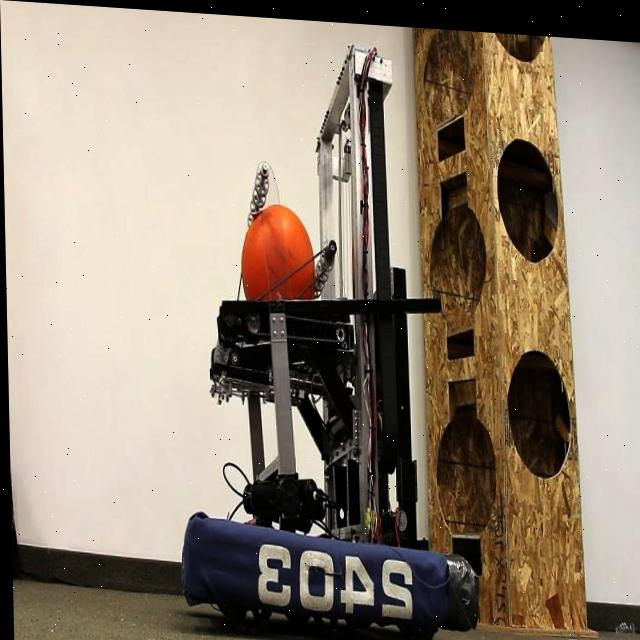robot: (170, 34, 475, 640)
